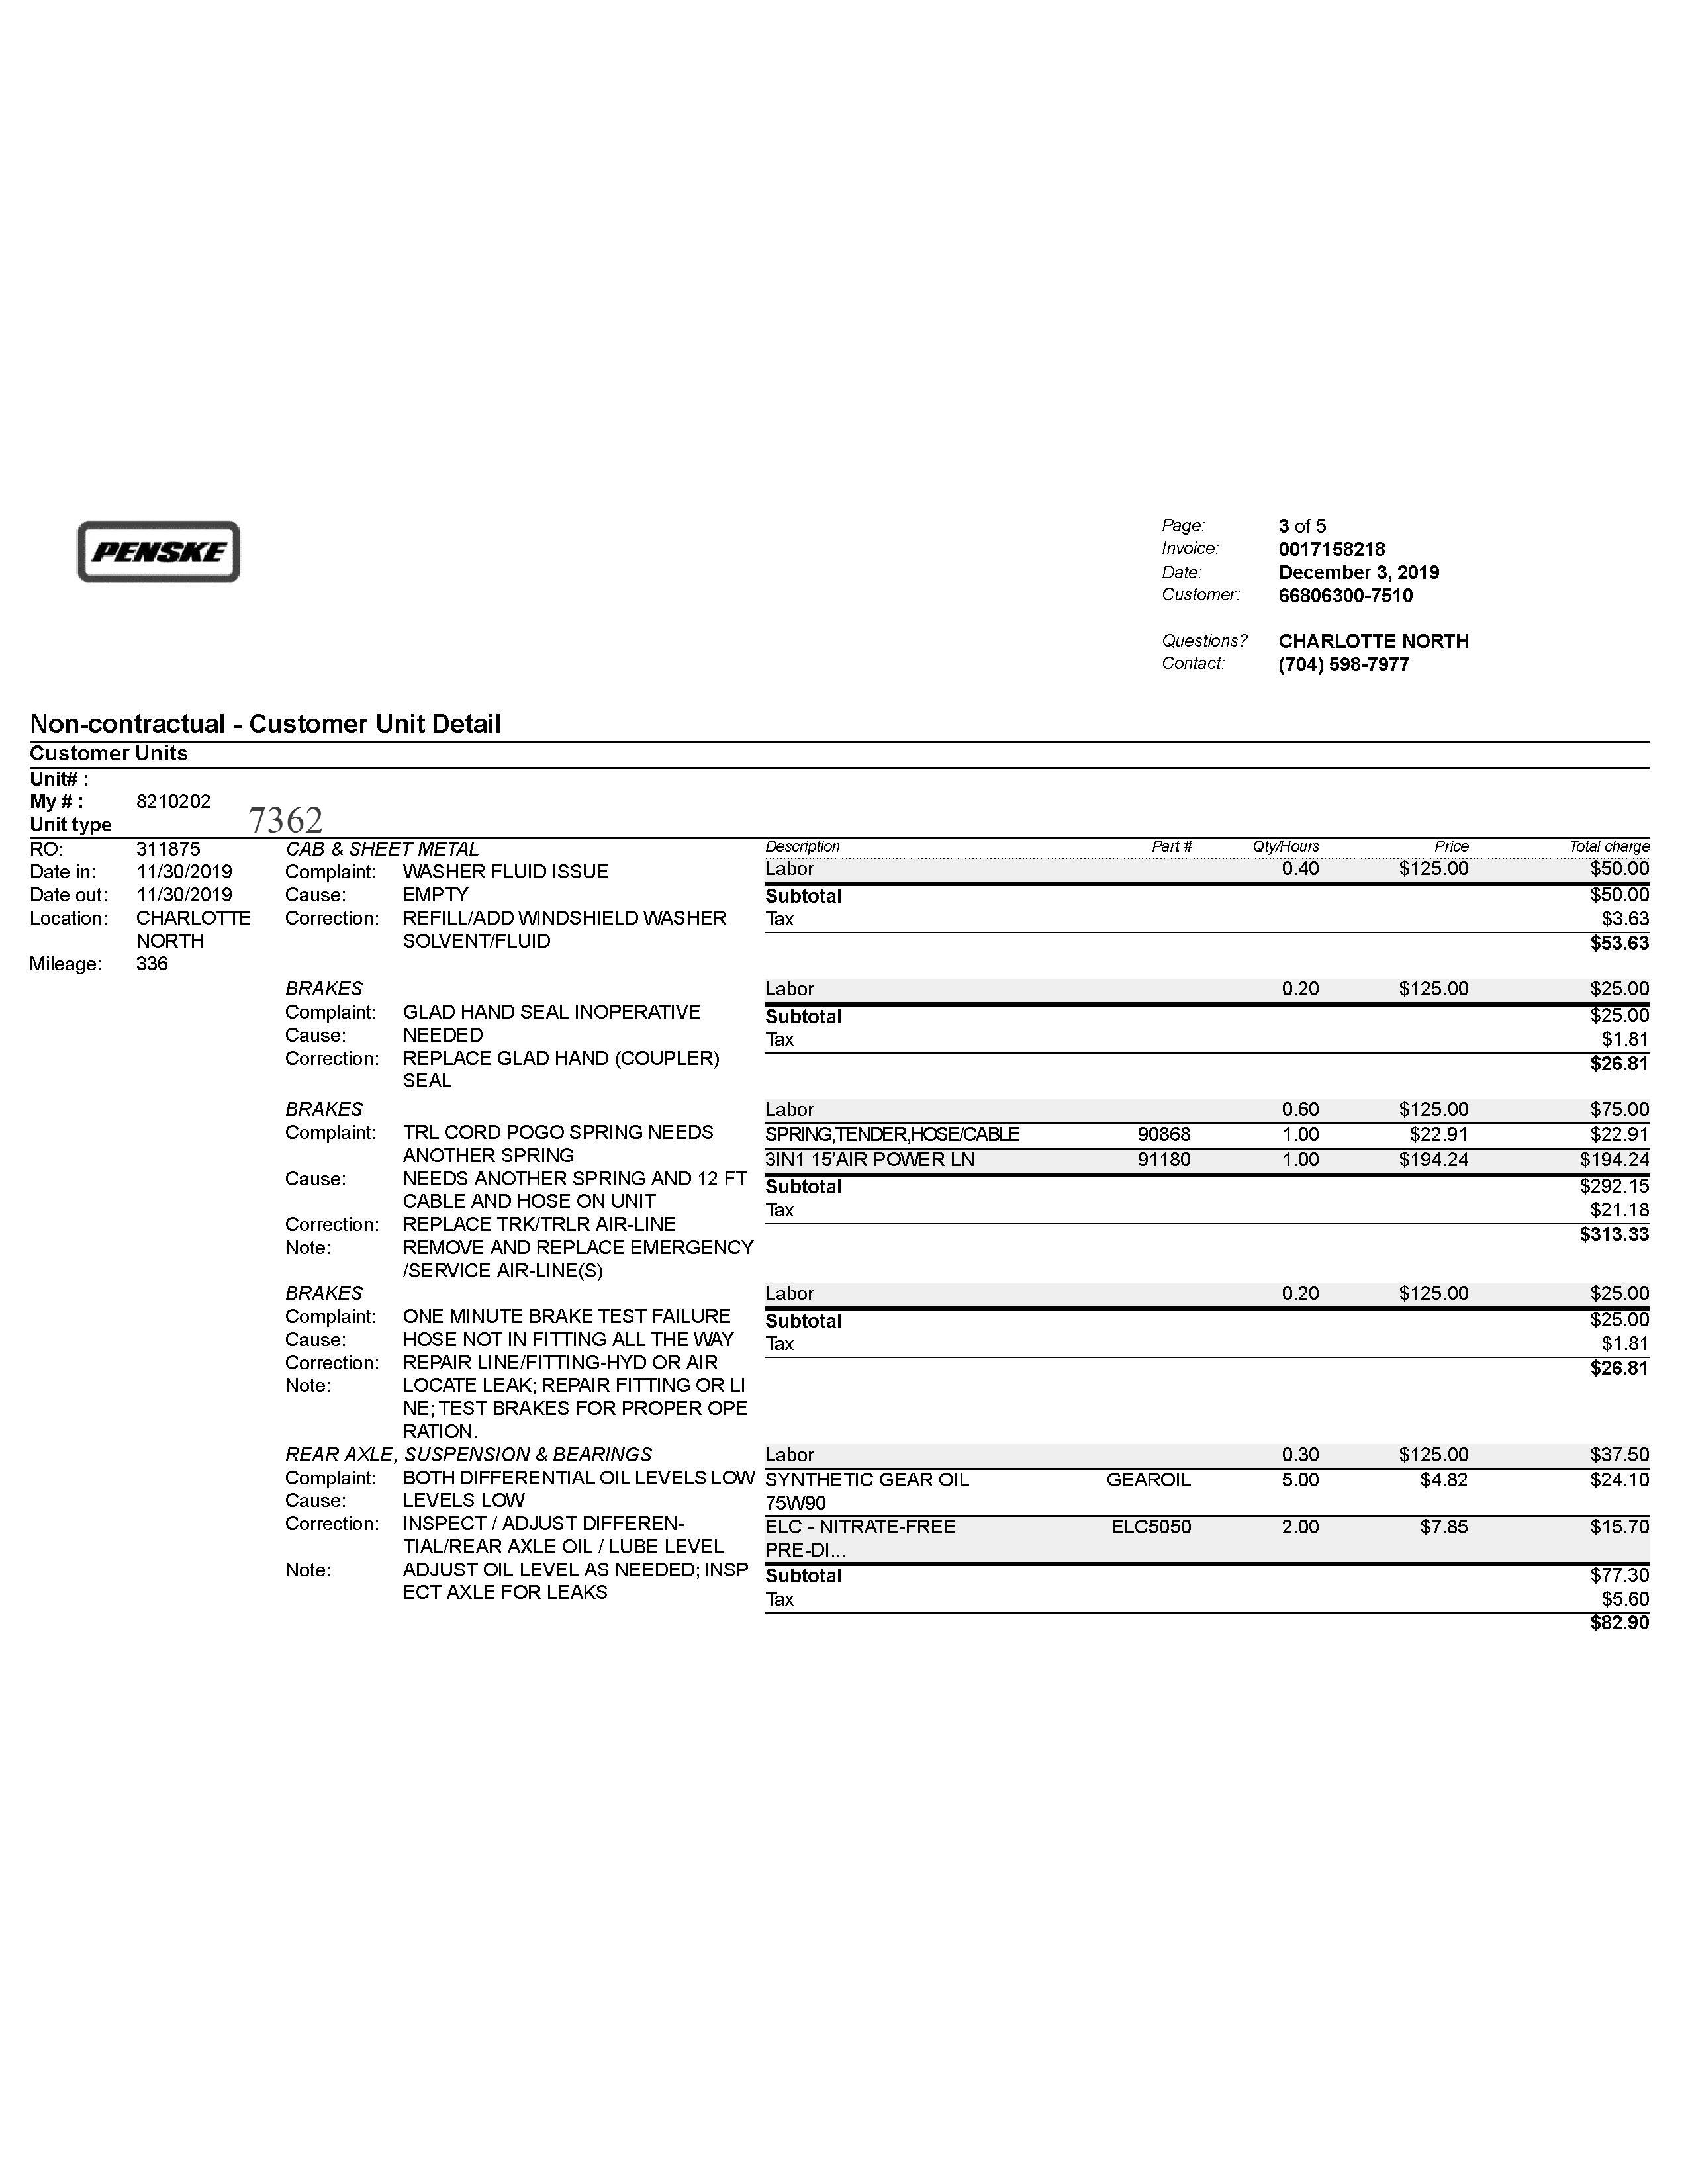B_Paragraph: (1153, 502, 1477, 688), (23, 837, 254, 984), (30, 769, 229, 837), (246, 799, 344, 837)
B_Table: (277, 837, 1660, 1650)
B_Title: (67, 507, 254, 594), (30, 709, 516, 739), (28, 737, 206, 769)
